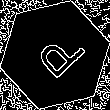P_SW: (24, 24, 86, 86)
